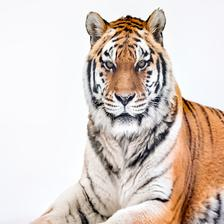tiger: (76, 9, 223, 224)
